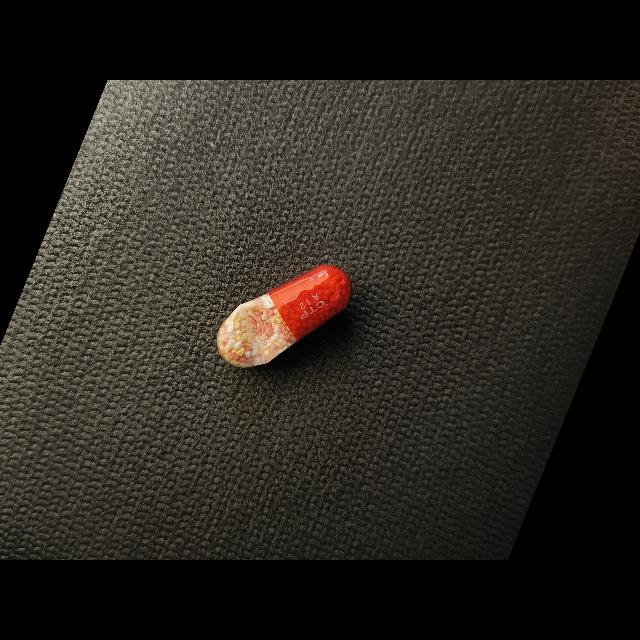Defective Capsule: (217, 265, 352, 368)
